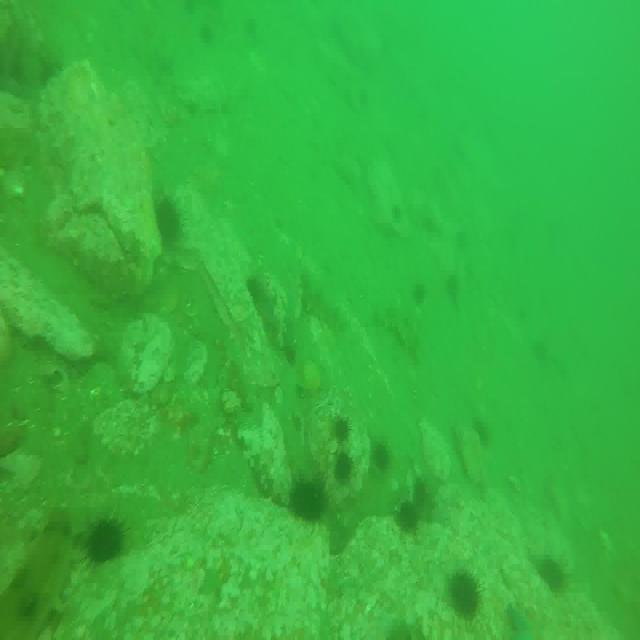echinus: (446, 568, 479, 627), (291, 476, 328, 524), (86, 518, 125, 562), (538, 554, 568, 600), (156, 200, 182, 248), (394, 498, 424, 538), (411, 474, 431, 517), (372, 442, 393, 478), (474, 416, 494, 450), (334, 452, 354, 486), (334, 416, 350, 451)
holothurian: (0, 504, 79, 640), (380, 308, 423, 366)
starfish: (504, 603, 552, 640)
